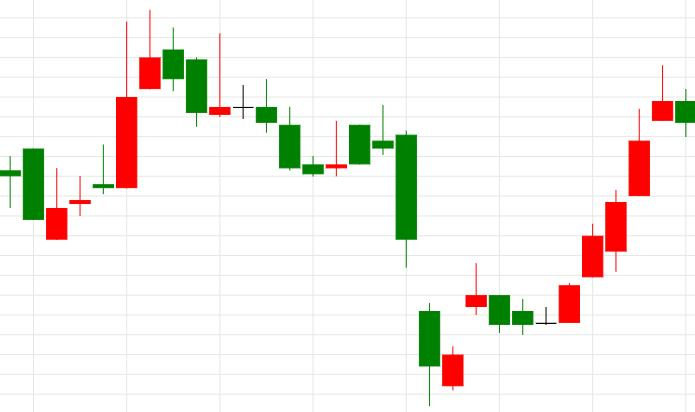shooting_star_fall: (44, 9, 161, 241)
three_white_soldiers_rise: (465, 189, 627, 334)
